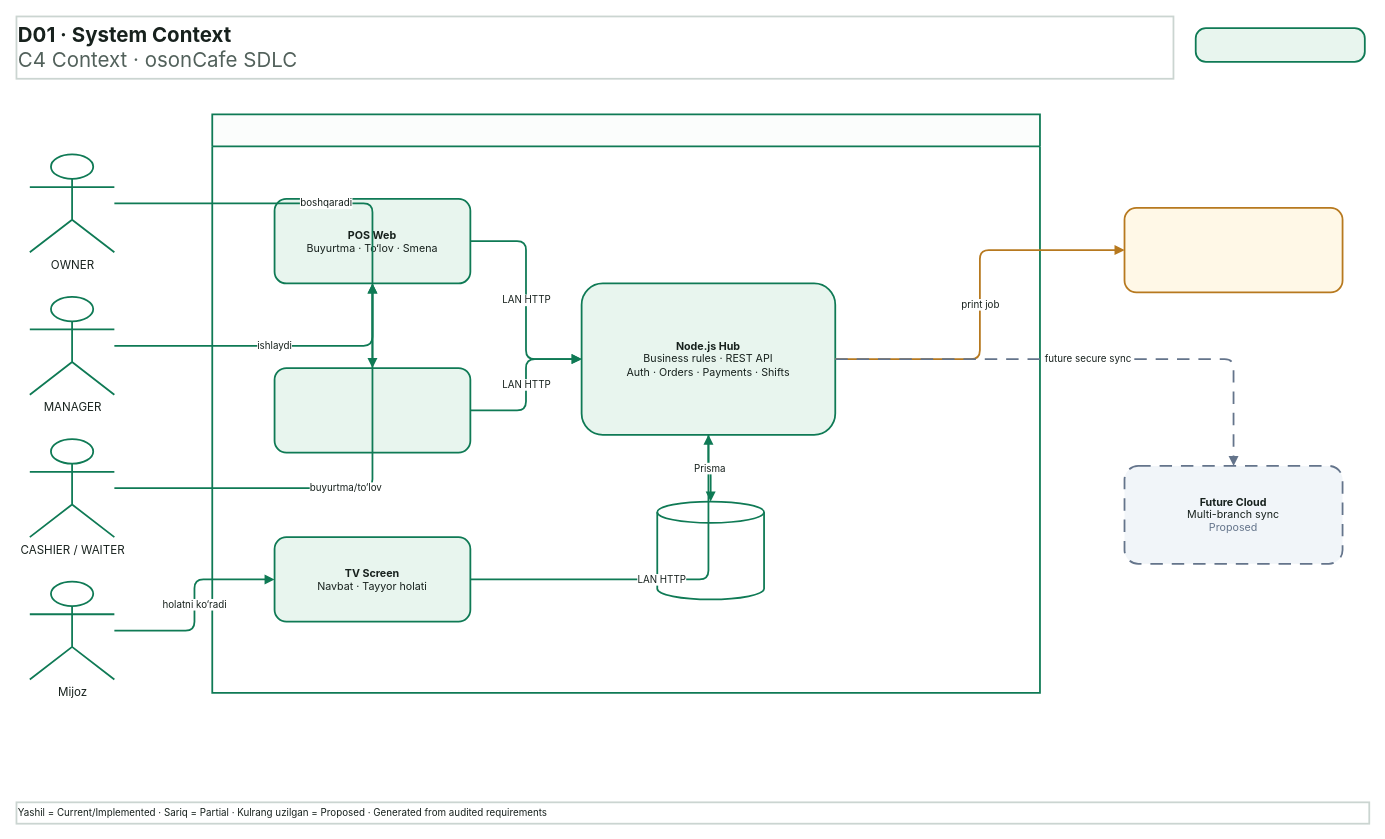
Image size: 1385x839. Some labels were removed from this diagram. Here are the shapes that lost their labels. From the top down, the box of each, then its label:
(1194, 27, 1365, 62): Current + Proposed
(1123, 206, 1343, 293): Receipt / Kitchen Printer Partial hardware validation
(273, 367, 471, 453): Admin Web Menyu · Xodim · Sozlama
(211, 113, 1040, 693): osonCafe Hub ekotizimi
(656, 500, 765, 600): SQLite Prisma
